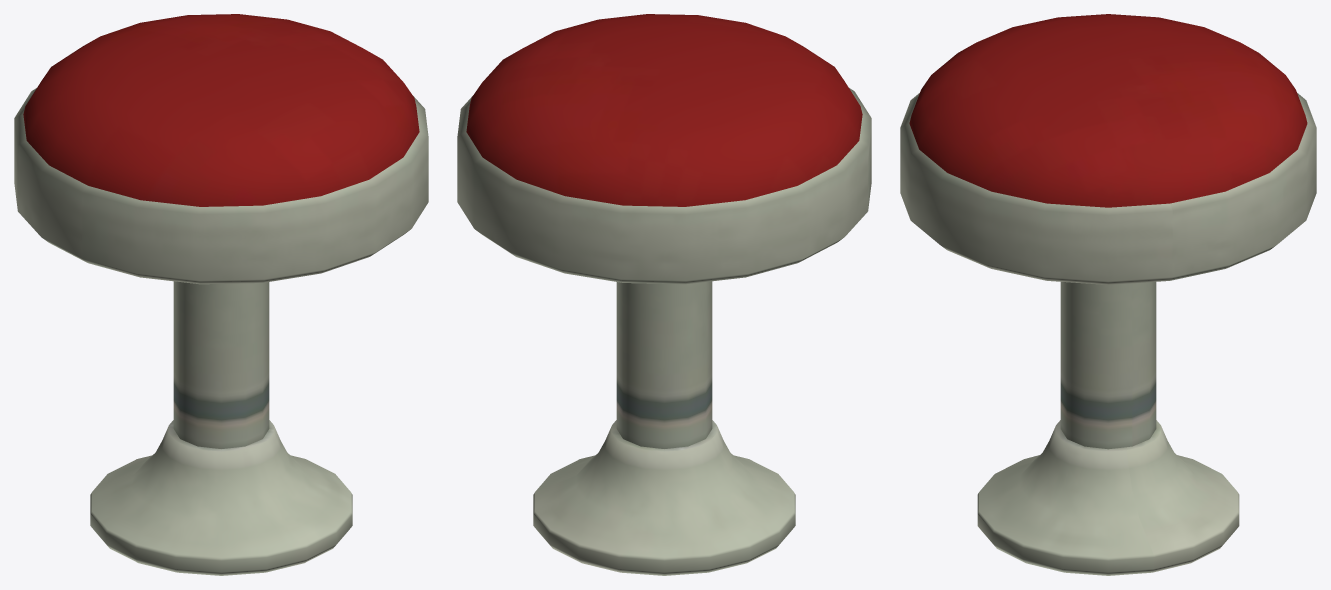
The picture shows the model from 3 angles, left to right: view 1: azimuth 30°, elevation 25°; view 2: azimuth 150°, elevation 25°; view 3: azimuth 270°, elevation 25°; orthographic projection.
Size of the model in its own units: 4.5 by 5.5 by 4.5.
2 materials, 2 textured.
